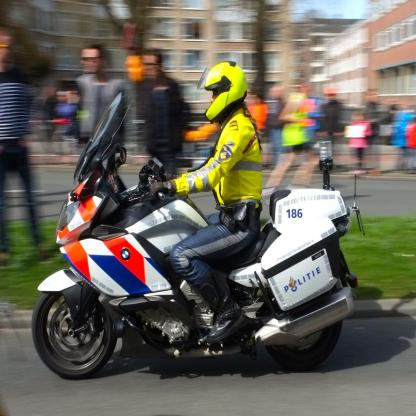Helmet: (198, 59, 250, 122)
